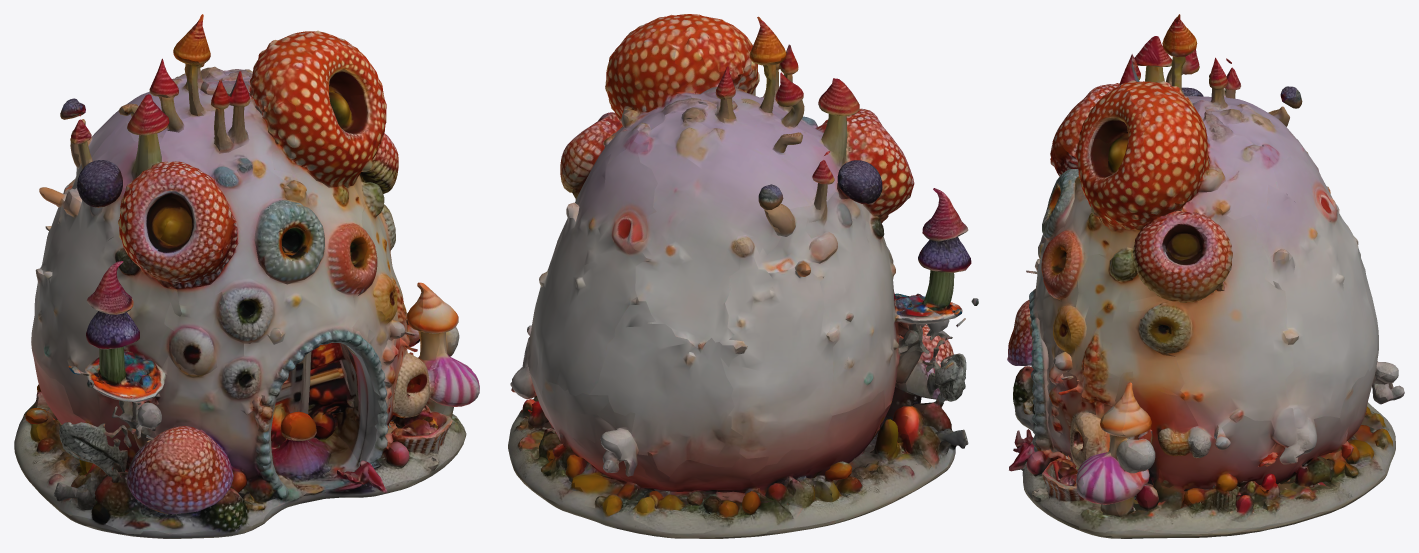
Rendered from statue_shell.glb.
3 renders of one model, left to right at view 1: azimuth 30°, elevation 25°; view 2: azimuth 150°, elevation 25°; view 3: azimuth 270°, elevation 25°, orthographic. The views are drawn at different scales.
Visible parts, largest first — view 1: Statue_Outer_Shell; view 2: Statue_Outer_Shell; view 3: Statue_Outer_Shell.
Part boxes in pixels (x1,y1,x2,y2): Statue_Outer_Shell: [14, 14, 479, 538]; Statue_Outer_Shell: [508, 14, 978, 538]; Statue_Outer_Shell: [1007, 14, 1404, 538].
Bounding box in the file's own units: 1.93 × 1.98 × 1.69.
Materials: 1 (1 with a texture image).
